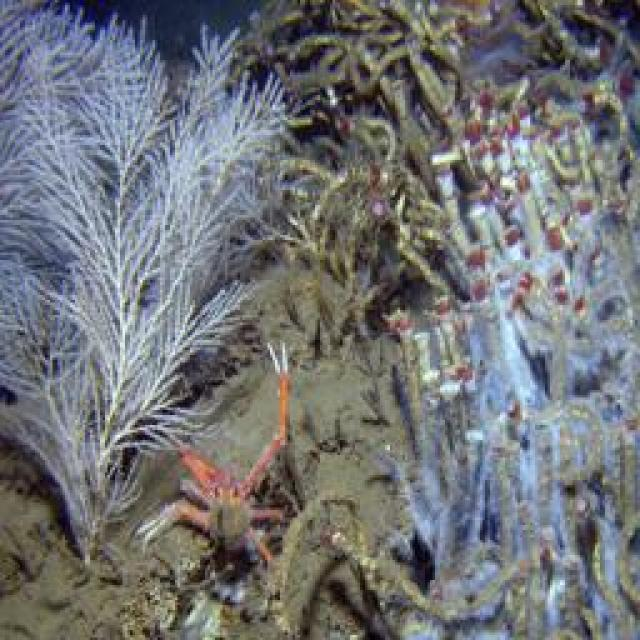aquatic plants: (0, 0, 318, 570)
reefs: (132, 338, 289, 570)
